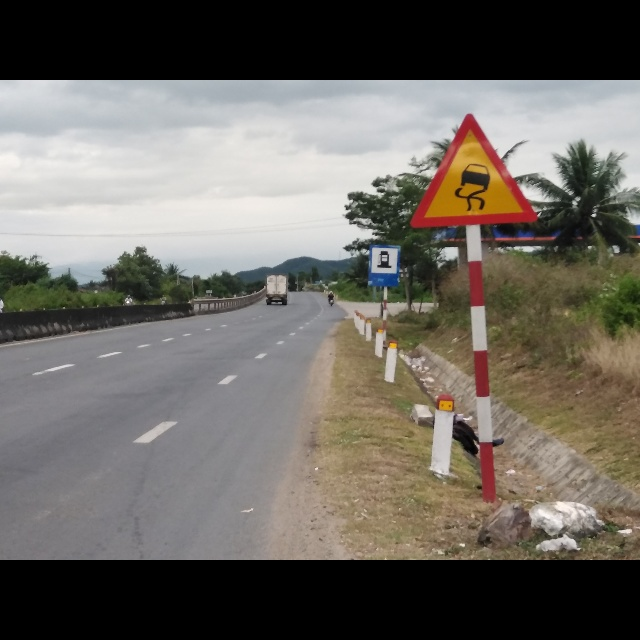Đường trơn trượt: (408, 113, 540, 230)
